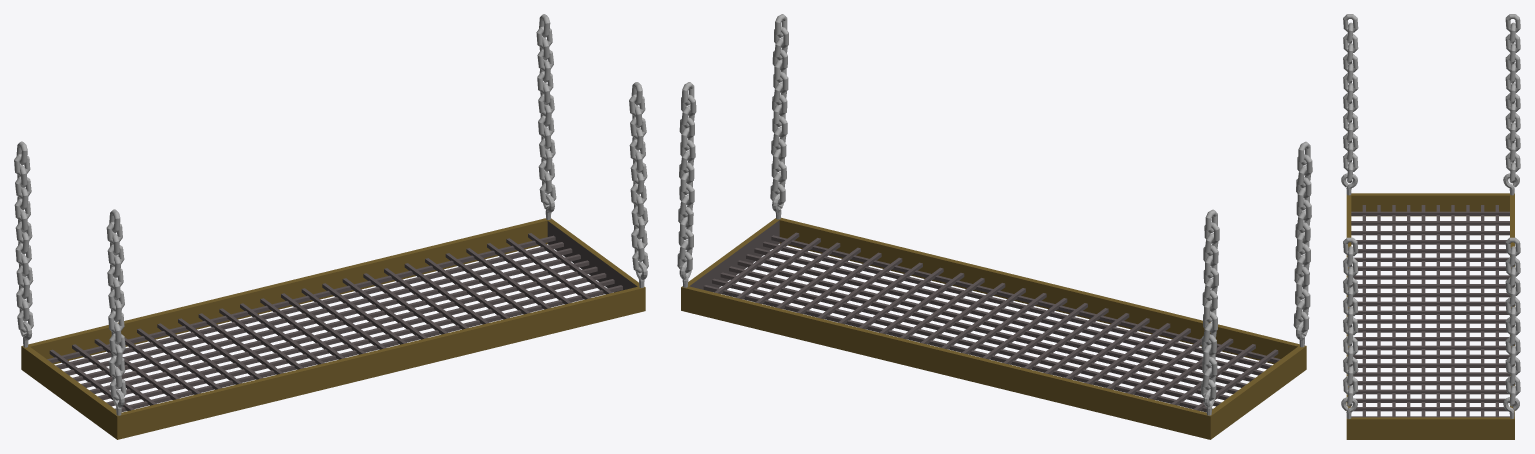
File: PotHanger.fbx
The picture shows the model from 3 angles, left to right: view 1: azimuth 30°, elevation 25°; view 2: azimuth 150°, elevation 25°; view 3: azimuth 270°, elevation 25°; orthographic projection. The views are drawn at different scales.
Visible parts, largest first — view 1: PotHanger, Chain04, Chain02, Chain03, Chain; view 2: PotHanger, Chain02, Chain04, Chain03, Chain; view 3: PotHanger, Chain04, Chain02, Chain, Chain03.
Part boxes in pixels (x1,y1,x2,y2): PotHanger: (21,218,645,439); Chain04: (106,209,126,415); Chain02: (536,14,556,219); Chain03: (14,141,33,347); Chain: (629,82,648,287); PotHanger: (681,217,1306,439); Chain02: (677,82,696,287); Chain04: (1293,141,1312,347); Chain03: (1201,209,1219,415); Chain: (770,14,788,219); PotHanger: (1346,193,1514,439); Chain04: (1341,14,1358,195); Chain02: (1503,237,1520,418); Chain: (1341,237,1358,418); Chain03: (1503,14,1520,195).
Size of the model in its own units: 24.08 by 9.69 by 7.9.
